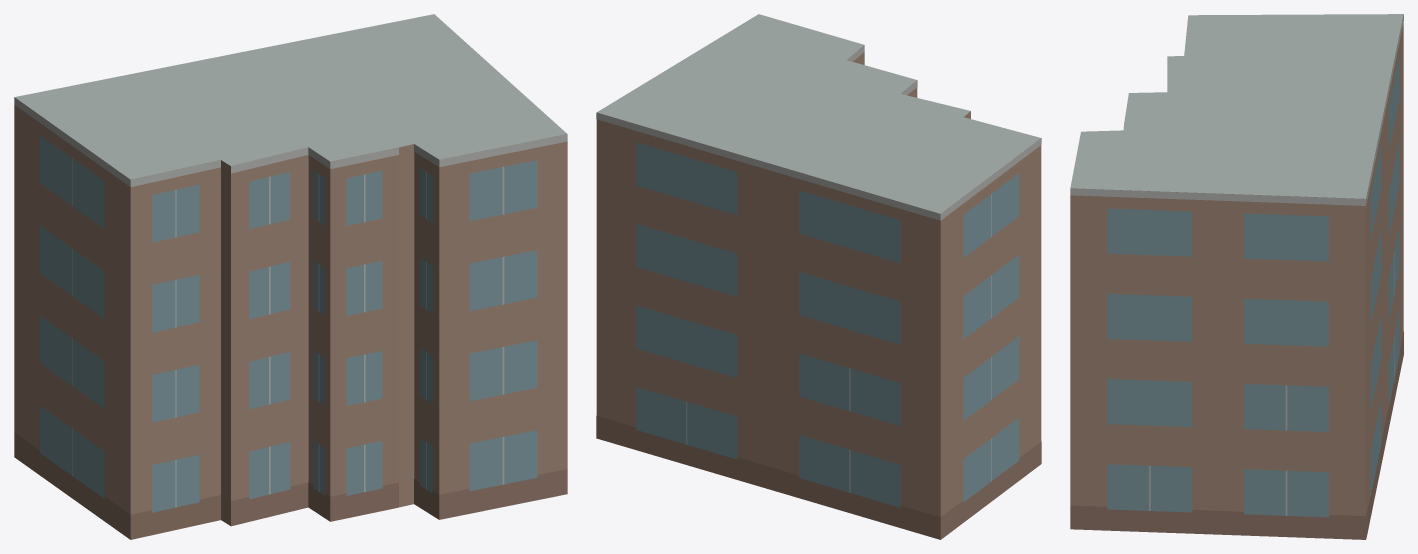
The model's file is survey-upis-33035893.glb.
3 views of the same model, side by side, from view 1: azimuth 30°, elevation 25°; view 2: azimuth 150°, elevation 25°; view 3: azimuth 270°, elevation 25° (orthographic). The views are drawn at different scales.
Visible parts, largest first — view 1: survey-upis-33035893.tmp; view 2: survey-upis-33035893.tmp; view 3: survey-upis-33035893.tmp.
Part boxes in pixels (box(x1,y1,x2,y2)): survey-upis-33035893.tmp: box(14, 14, 567, 539); survey-upis-33035893.tmp: box(596, 14, 1041, 539); survey-upis-33035893.tmp: box(1070, 14, 1403, 539).
Size of the model in its own units: 13.61 by 11.7 by 10.38.
